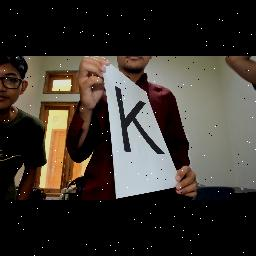k: (111, 80, 169, 166)
